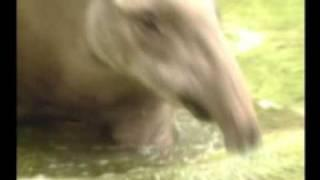Anta: (51, 3, 273, 157)
